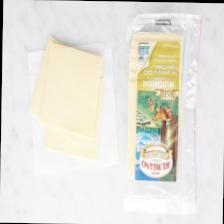cheese: (38, 40, 102, 141)
